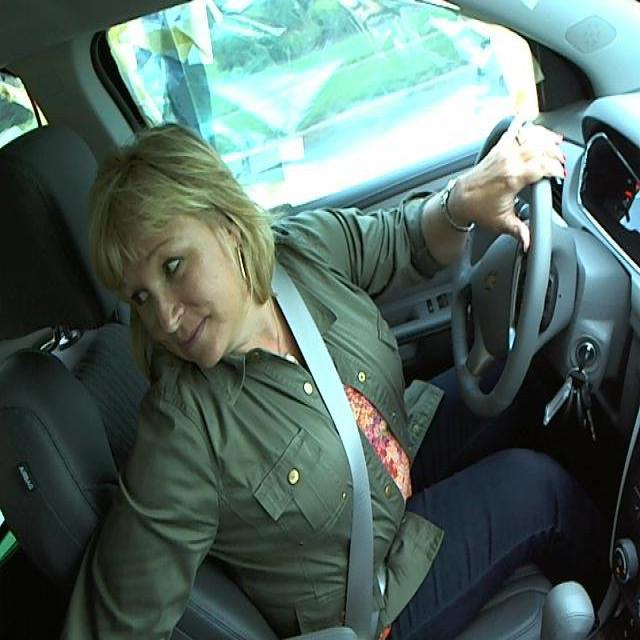seatbelt: (269, 311, 397, 617)
